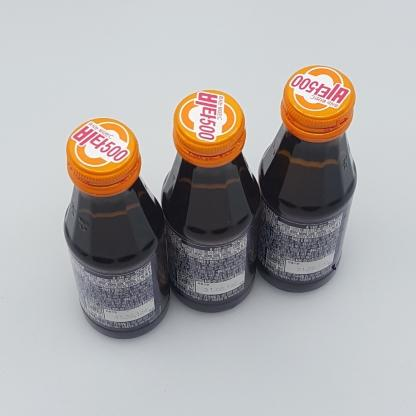-----500---100ML: (64, 117, 170, 339), (256, 64, 357, 293), (161, 89, 260, 313)
